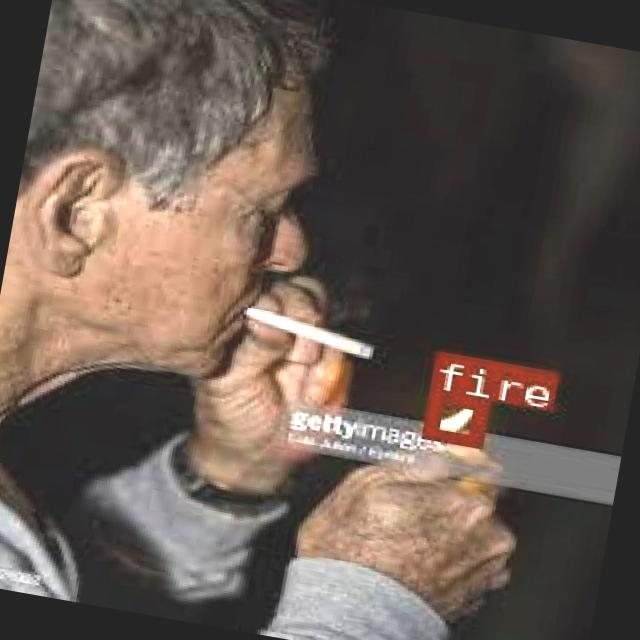fire: (419, 388, 486, 446)
